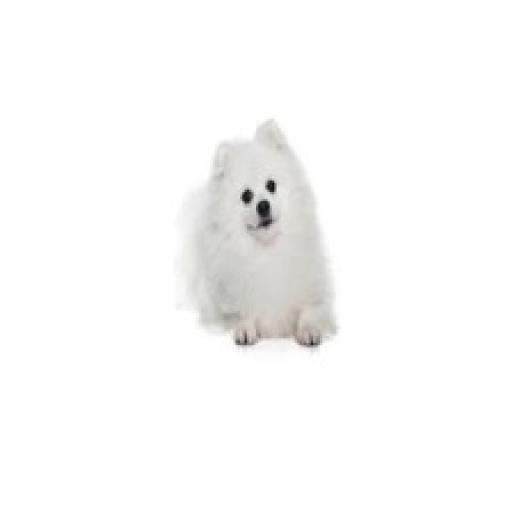dog: (168, 115, 348, 352)
